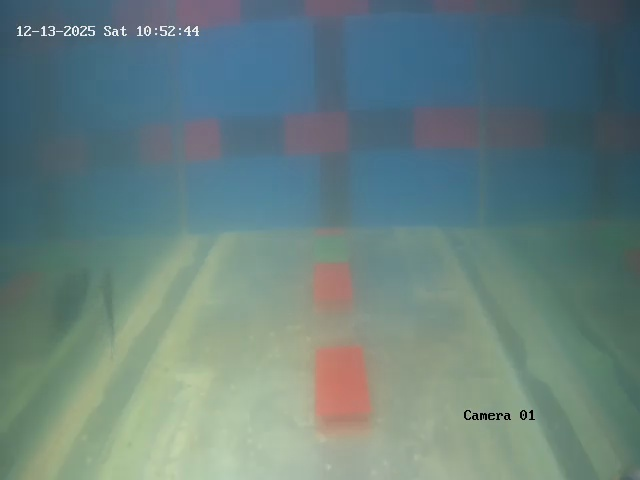fish: (95, 251, 130, 340)
